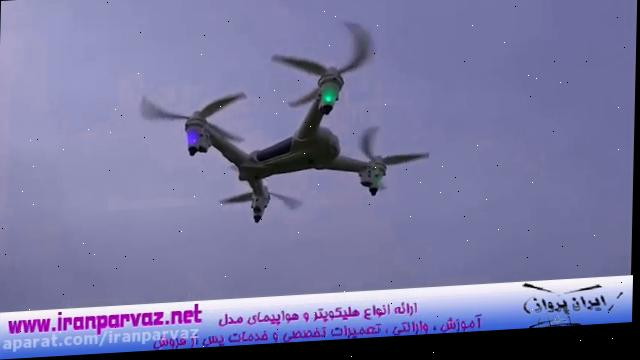drone: (132, 17, 437, 240)
